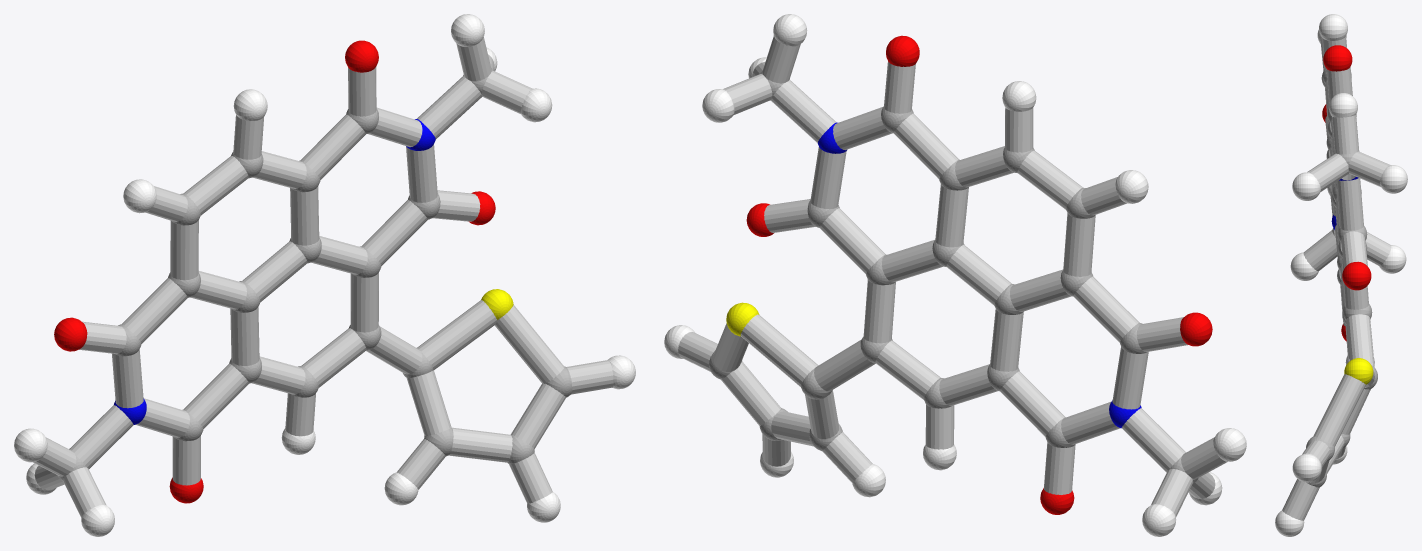
Rendered from color.glb.
3 renders of one model, left to right at view 1: azimuth 30°, elevation 25°; view 2: azimuth 150°, elevation 25°; view 3: azimuth 270°, elevation 25°, orthographic. The views are drawn at different scales.
Parts seen in each view (by area): view 1: grp14119, grp7241, grp1, grp12309, grp11585; view 2: grp14119, grp7241, grp1, grp12309, grp11585, grp13757; view 3: grp14119, grp7241, grp1, grp12309, grp13757.
Boxes of the visible parts, x1,y1,x2,y2 form: grp14119: (33, 37, 613, 517); grp7241: (14, 14, 635, 536); grp1: (57, 68, 572, 480); grp12309: (54, 40, 495, 503); grp11585: (114, 119, 435, 424); grp14119: (678, 36, 1227, 516); grp7241: (664, 14, 1246, 536); grp1: (709, 71, 1198, 483); grp12309: (746, 35, 1212, 514); grp11585: (817, 122, 1141, 428); grp13757: (726, 302, 759, 336); grp14119: (1282, 36, 1391, 520); grp7241: (1275, 14, 1407, 536); grp1: (1306, 69, 1377, 487); grp12309: (1322, 45, 1371, 341); grp13757: (1344, 358, 1373, 384).
Bounding box in the file's own units: 12.17 × 9.66 × 2.74.
